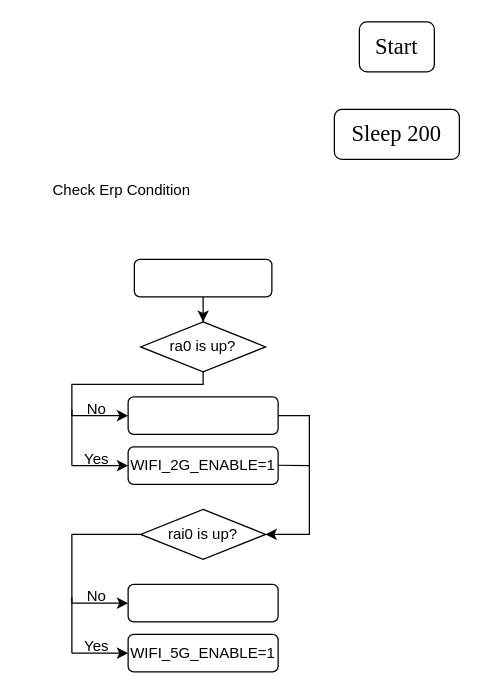
This 481x694 diagram has some shape labels left out. The centre of each missing label's shape, as x and y in pixels:
"Check WiFi Status" goes at [202,277].
"WIFI_2G_ENABLE=0" goes at [202,415].
"WIFI_5G_ENABLE=0" goes at [202,602].
